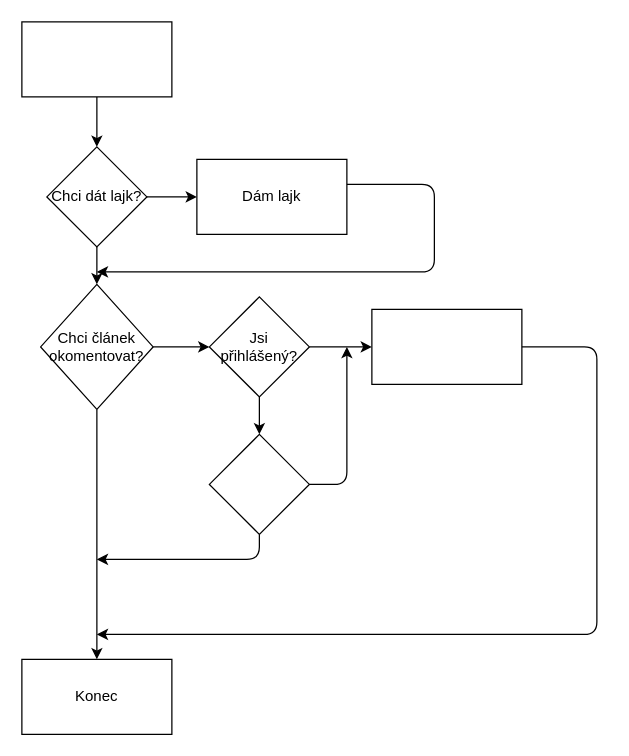
Some shapes in this 629 by 756 pixel diagram are drawn without their labels. Here are the shapes that lost their labels. From the top down, the box of each, then its label:
(21, 21, 172, 97): Přečtení článku/projíždění fora
(371, 308, 522, 384): Okomentuji
(208, 433, 309, 534): Přihlašíš se k okomentování?
